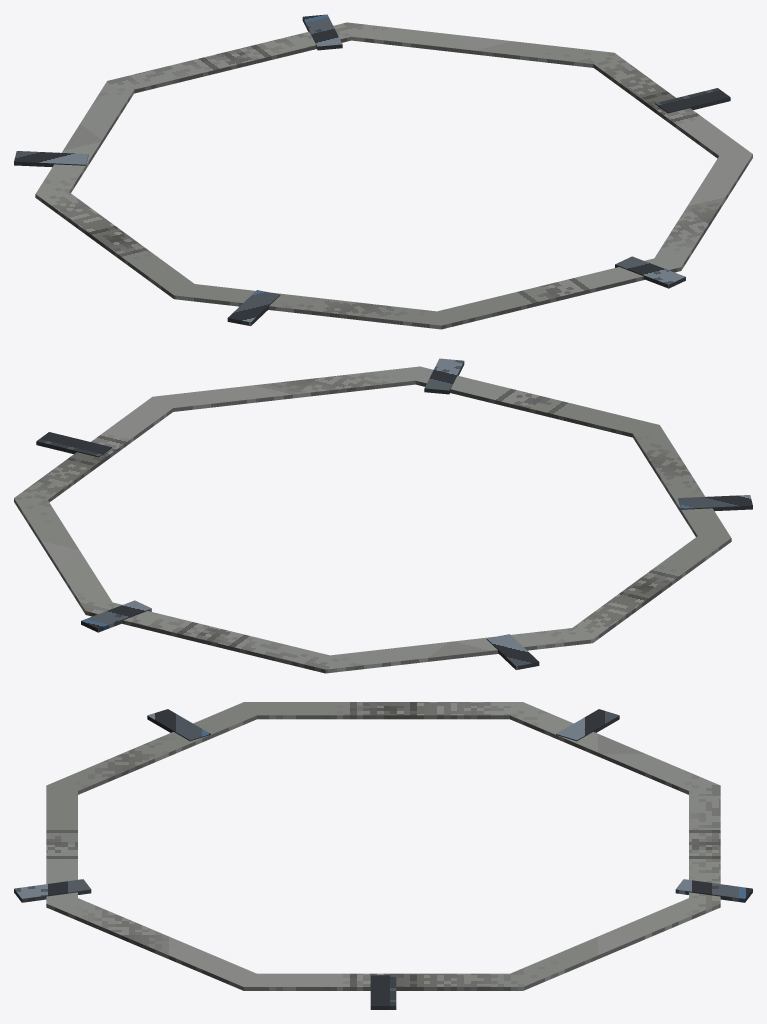
File: fx_beacon_range.glb
3 renders of one model, top to bottom at view 1: azimuth 30°, elevation 25°; view 2: azimuth 150°, elevation 25°; view 3: azimuth 270°, elevation 25°, orthographic.
Visible parts, largest first — view 1: range_ring, range_tick_4, range_tick_2, range_tick_0, range_tick_3, range_tick_1; view 2: range_ring, range_tick_1, range_tick_3, range_tick_0, range_tick_2, range_tick_4; view 3: range_ring, range_tick_1, range_tick_4, range_tick_2, range_tick_3, range_tick_0.
Part boxes in pixels (left/top/right/bottom): range_ring: left=35, top=22, right=752, bottom=329; range_tick_4: left=615, top=256, right=685, bottom=288; range_tick_2: left=14, top=151, right=88, bottom=167; range_tick_0: left=655, top=88, right=730, bottom=113; range_tick_3: left=227, top=290, right=280, bottom=325; range_tick_1: left=302, top=14, right=342, bottom=50; range_ring: left=14, top=366, right=731, bottom=673; range_tick_1: left=81, top=600, right=151, bottom=632; range_tick_3: left=678, top=495, right=752, bottom=511; range_tick_0: left=36, top=432, right=111, bottom=457; range_tick_2: left=486, top=634, right=539, bottom=669; range_tick_4: left=424, top=358, right=464, bottom=394; range_ring: left=46, top=702, right=720, bottom=990; range_tick_1: left=675, top=879, right=752, bottom=902; range_tick_4: left=14, top=879, right=91, bottom=902; range_tick_2: left=556, top=709, right=619, bottom=741; range_tick_3: left=147, top=709, right=210, bottom=741; range_tick_0: left=370, top=975, right=396, bottom=1009.
Size of the model in its own units: 3.36 by 0.025 by 3.44.
2 materials, 2 textured.
